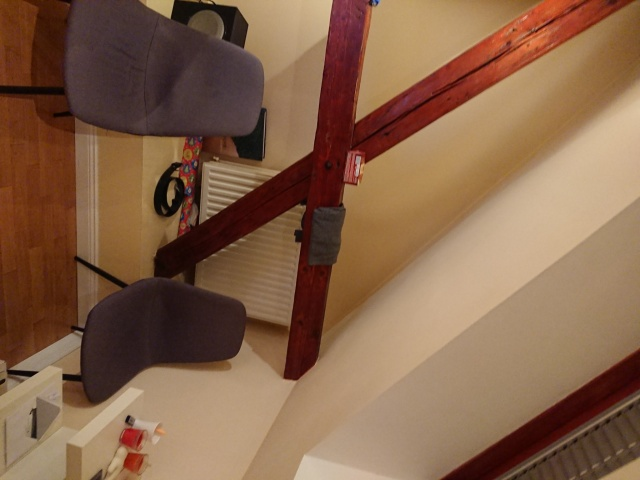Franck Apple Cinnamon Tea 60g: (340, 147, 367, 188)
